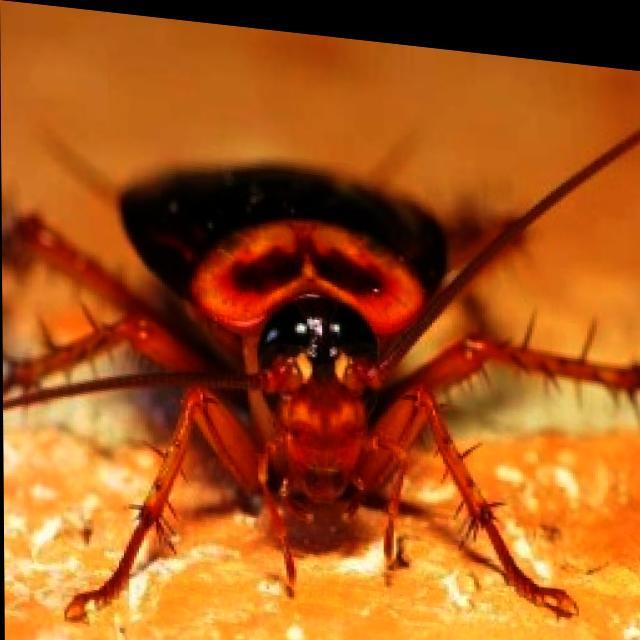cockroach: (5, 127, 637, 626)
